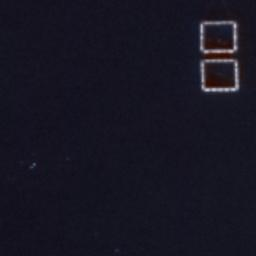square_solid: (195, 53, 245, 97), (195, 17, 241, 57)
